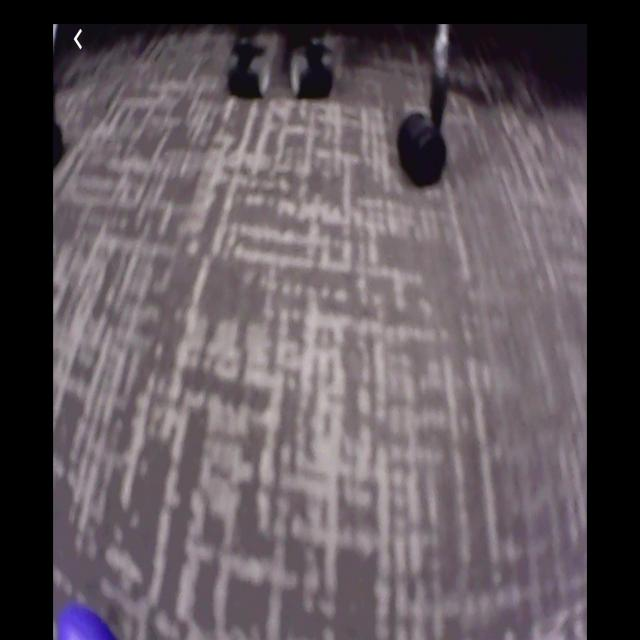ball: (59, 607, 116, 640)
